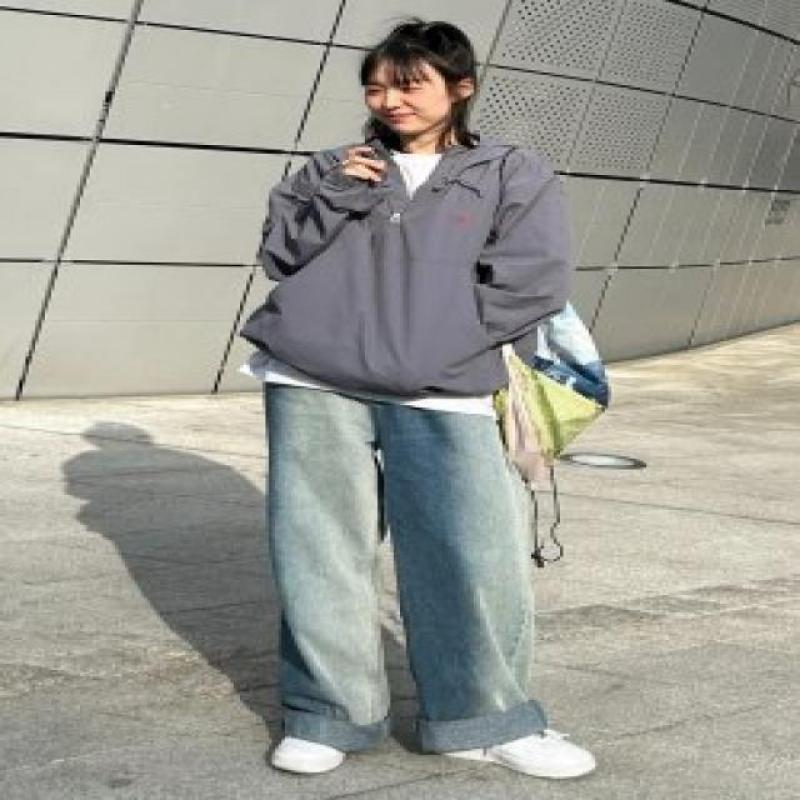coat: (237, 130, 571, 402)
trousers: (263, 381, 550, 758)
